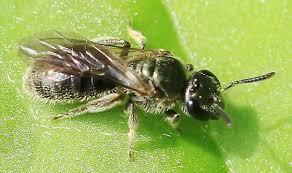Lasioglossum: (21, 20, 275, 143)
